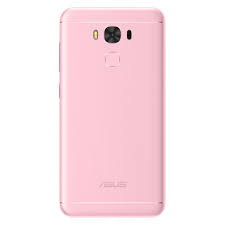asus: (53, 3, 171, 220), (98, 178, 129, 193)
